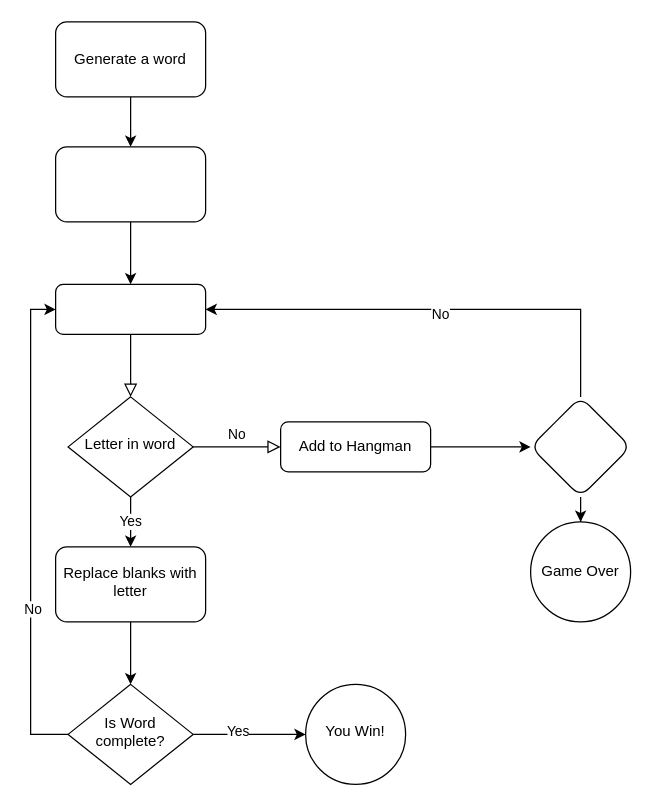
Image size: 653x806. Some labels were removed from this diagram. The shapes that lost their labels are listed below. From the top down, each one's centre as x and y in pixels, then its label:
At (x=130, y=184): "Create blanks to provide user".
At (x=130, y=308): "Ask for a Letter".
At (x=580, y=446): "Is Hangman complete?".
